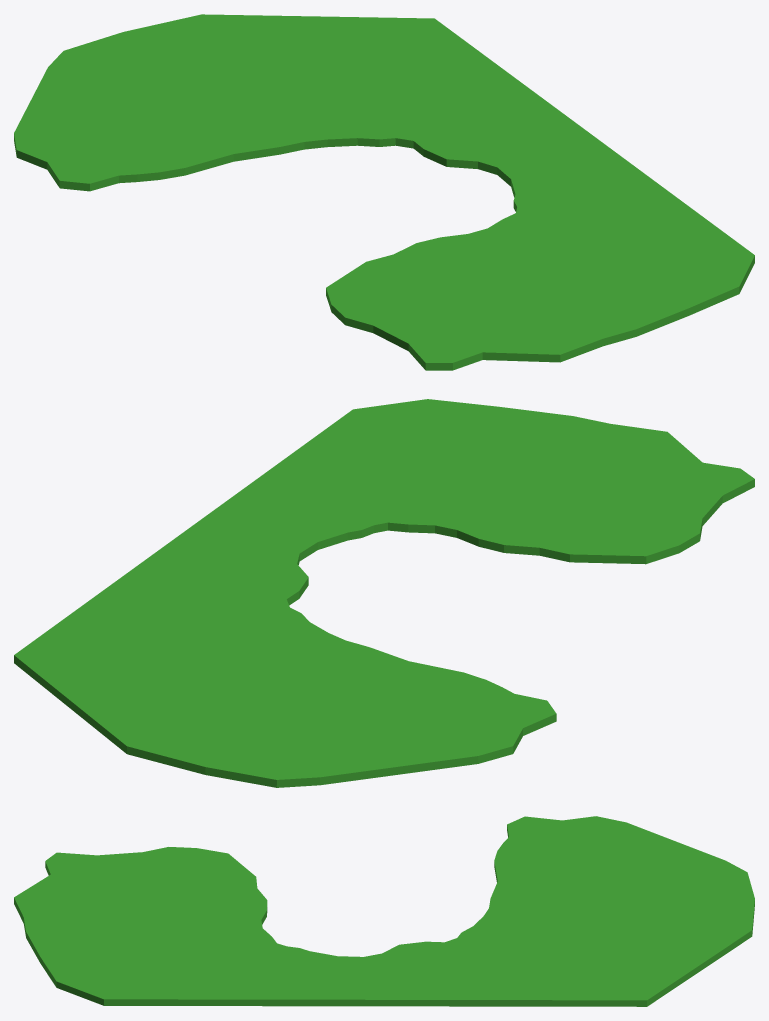
The model's file is Ground.fin.2.fbx.
The picture shows the model from 3 angles, top to bottom: view 1: azimuth 30°, elevation 25°; view 2: azimuth 150°, elevation 25°; view 3: azimuth 270°, elevation 25°; orthographic projection. The views are drawn at different scales.
Visible parts, largest first — view 1: Ground; view 2: Ground; view 3: Ground.
Boxes of the visible parts, bbox=[...] form: Ground: bbox=[14, 14, 754, 370]; Ground: bbox=[14, 399, 754, 787]; Ground: bbox=[14, 816, 754, 1006].
Size of the model in its own units: 3692 by 62.95 by 6277.
